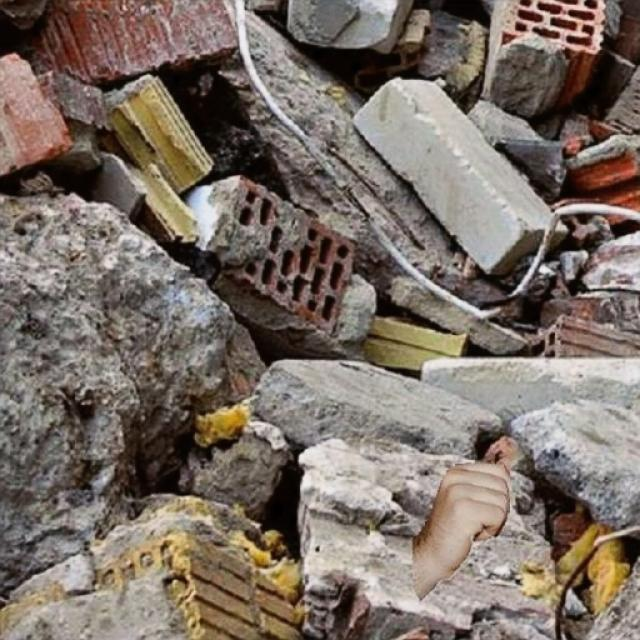Person in Rubble: (412, 456, 508, 600)
